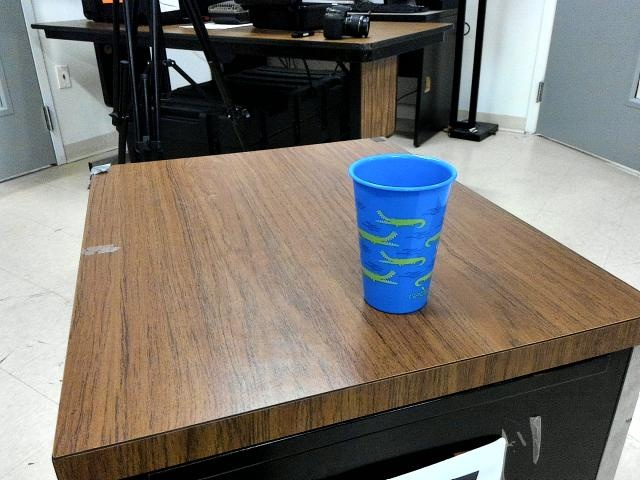water_cup: (343, 145, 460, 320)
